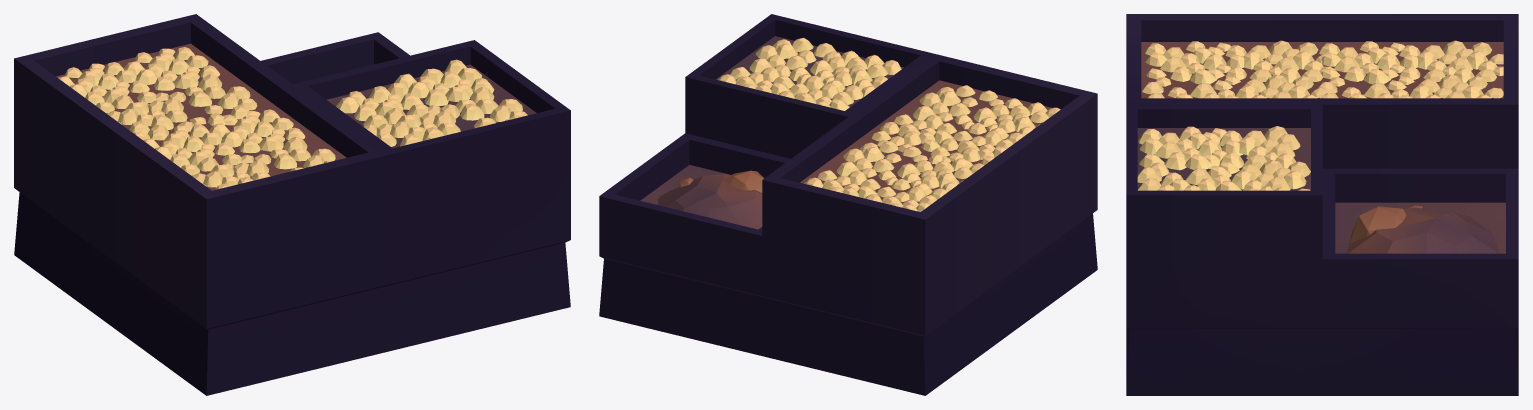
File: Garden_SquarePlanter02.fbx
3 views of the same model, side by side, from view 1: azimuth 30°, elevation 25°; view 2: azimuth 150°, elevation 25°; view 3: azimuth 270°, elevation 25° (orthographic). The views are drawn at different scales.
Parts seen in each view (by area): view 1: Box Planter02; view 2: Box Planter02; view 3: Box Planter02.
Boxes of the visible parts, left/top/right/bottom form: Box Planter02: left=14, top=14, right=570, bottom=395; Box Planter02: left=599, top=14, right=1097, bottom=395; Box Planter02: left=1126, top=14, right=1518, bottom=395.
Bounding box in the file's own units: 85.05 × 43.89 × 77.81.
